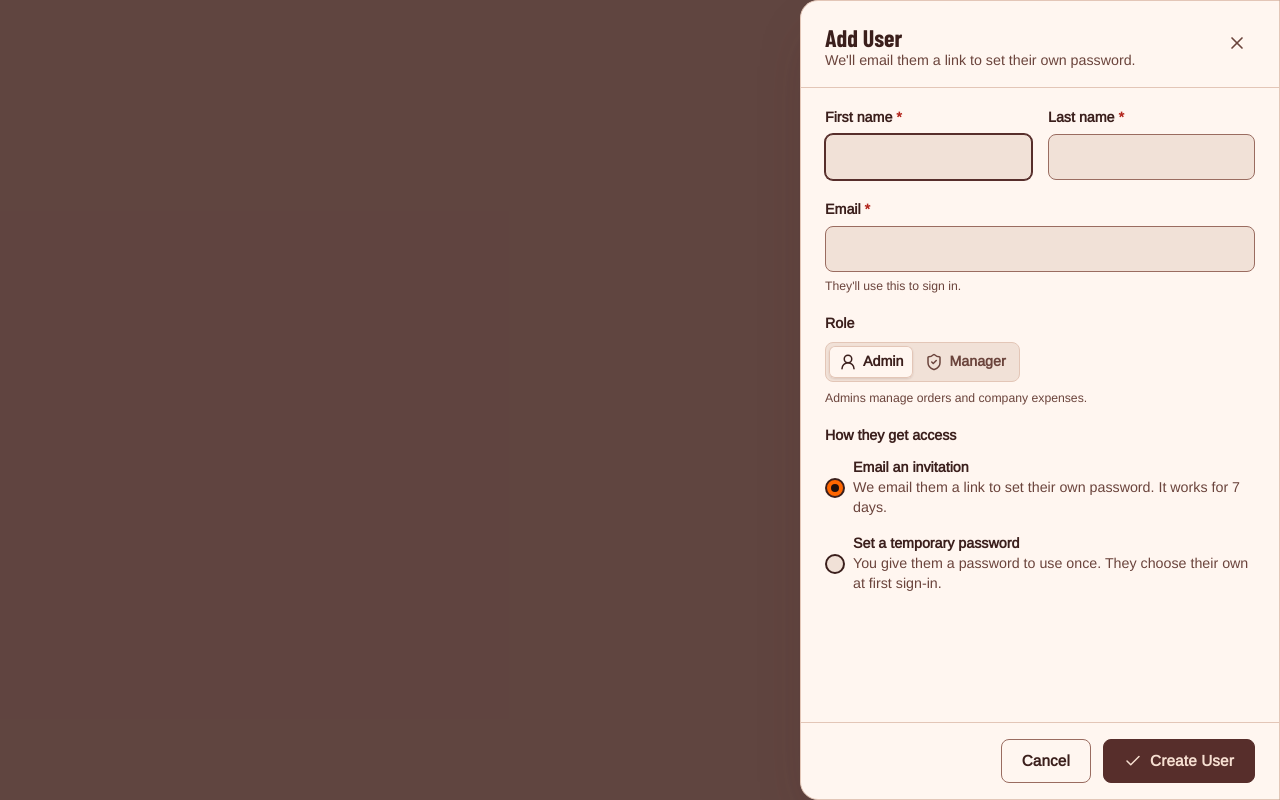
Scenario: U2 checks before sending (OR-3) › shows every required message at once, sends nothing, keeps Create User enabled and focuses First name
This screenshot has width=1280, height=800.
What coordinates should you click on to do the following:
click the button "Create User"
I would click on:
 (1179, 761)
Its box is [1103,739,1255,783].
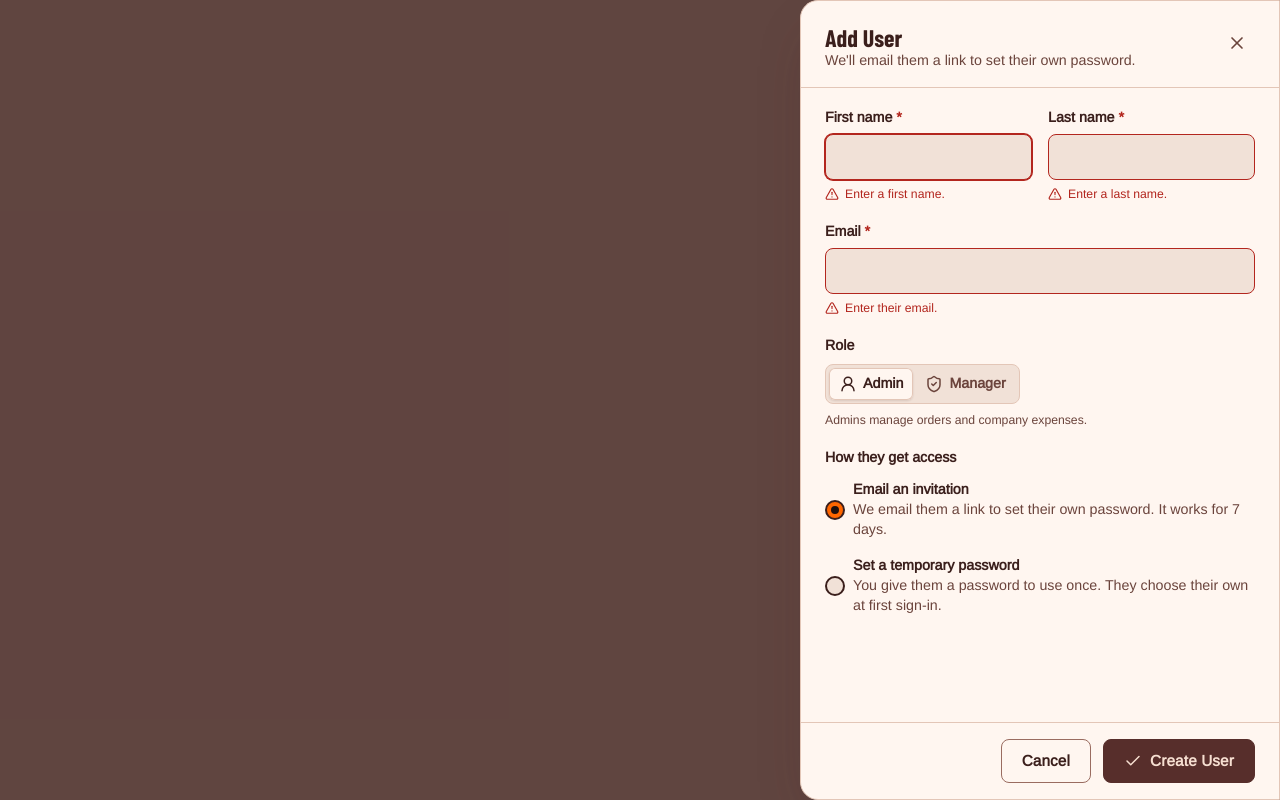
expect the text "Enter a first name." is shown: met, box [825,187,945,201]
expect the text "Enter a last name." is shown: met, box [1048,187,1167,201]
expect the text "Enter their email." is shown: met, box [825,301,937,315]
